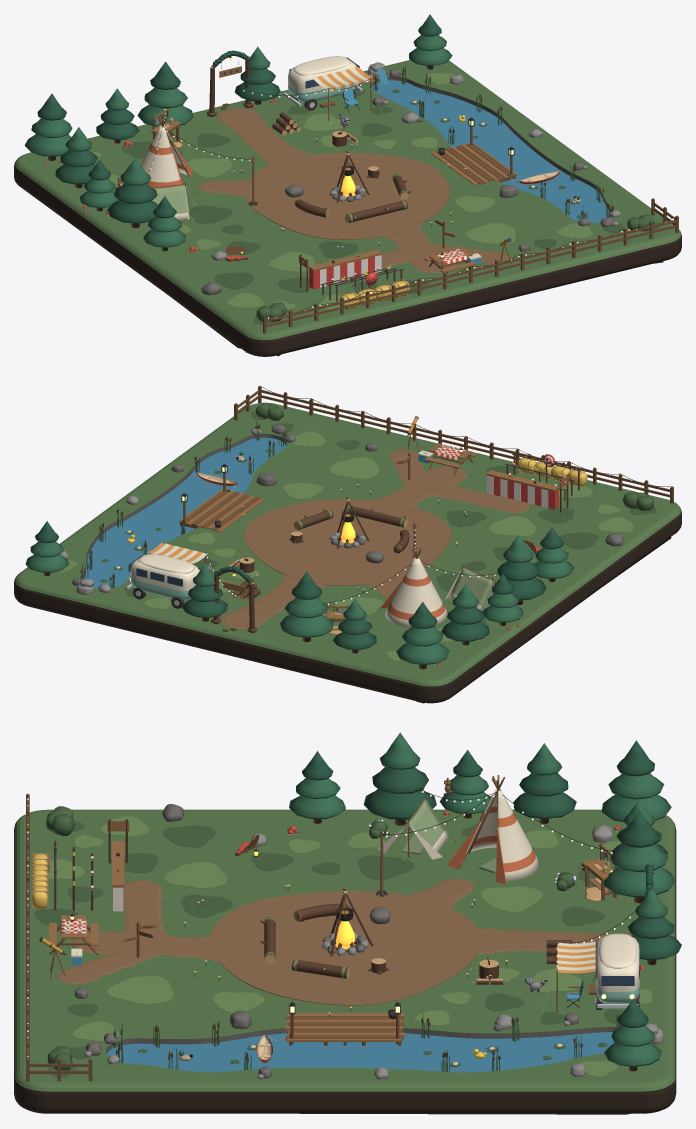
The model's file is campfire.glb.
The picture shows the model from 3 angles, top to bottom: view 1: azimuth 30°, elevation 25°; view 2: azimuth 150°, elevation 25°; view 3: azimuth 270°, elevation 25°; orthographic projection. The views are drawn at different scales.
Parts seen in each view (by area): view 1: Campfire_Ground, Campfire_Paths, Campfire_Trees, Campfire_Grass, Campfire_Water, Campfire_Glamping, Camp_Living, Campfire_Fence, Campfire_Deco, Prop_Dock, Seat_Tent, Campfire_Rocks (+2 smaller); view 2: Campfire_Ground, Campfire_Paths, Campfire_Trees, Campfire_Grass, Campfire_Water, Camp_Living, Campfire_Glamping, Campfire_Fence, Campfire_Deco, Seat_Tent, Prop_Dock, Seat_Firepit (+2 smaller); view 3: Campfire_Ground, Campfire_Paths, Campfire_Trees, Campfire_Grass, Campfire_Water, Campfire_Glamping, Campfire_Deco, Seat_Tent, Camp_Living, Prop_Dock, Campfire_Rocks, Seat_Firepit (+4 smaller).
Part boxes in pixels (left/top/right/bottom): Campfire_Ground: left=14, top=60, right=681, bottom=356; Campfire_Paths: left=199, top=108, right=510, bottom=272; Campfire_Trees: left=24, top=14, right=452, bottom=251; Campfire_Grass: left=92, top=73, right=660, bottom=324; Campfire_Water: left=371, top=68, right=610, bottom=222; Campfire_Glamping: left=226, top=56, right=519, bottom=279; Camp_Living: left=206, top=50, right=409, bottom=310; Campfire_Fence: left=263, top=198, right=678, bottom=333; Campfire_Deco: left=43, top=64, right=654, bottom=321; Prop_Dock: left=430, top=117, right=517, bottom=185; Seat_Tent: left=140, top=115, right=192, bottom=188; Campfire_Rocks: left=201, top=62, right=620, bottom=295; Campfire_Ground: left=14, top=402, right=681, bottom=703; Campfire_Paths: left=221, top=449, right=530, bottom=629; Campfire_Trees: left=25, top=521, right=574, bottom=669; Campfire_Grass: left=58, top=411, right=657, bottom=660; Campfire_Water: left=83, top=437, right=286, bottom=588; Camp_Living: left=210, top=454, right=587, bottom=632; Campfire_Glamping: left=126, top=416, right=541, bottom=608; Campfire_Fence: left=234, top=385, right=673, bottom=503; Campfire_Deco: left=80, top=403, right=653, bottom=667; Seat_Tent: left=381, top=547, right=447, bottom=627; Prop_Dock: left=179, top=463, right=264, bottom=532; Seat_Firepit: left=289, top=505, right=409, bottom=563; Campfire_Ground: left=14, top=809, right=676, bottom=1113; Campfire_Paths: left=58, top=879, right=632, bottom=1005; Campfire_Trees: left=289, top=732, right=681, bottom=1071; Campfire_Grass: left=34, top=816, right=652, bottom=1077; Campfire_Water: left=107, top=1032, right=614, bottom=1072; Campfire_Glamping: left=39, top=831, right=639, bottom=1041; Campfire_Deco: left=46, top=806, right=644, bottom=1071; Seat_Tent: left=447, top=775, right=539, bottom=884; Camp_Living: left=32, top=819, right=653, bottom=984; Prop_Dock: left=285, top=1001, right=404, bottom=1045; Campfire_Rocks: left=74, top=804, right=664, bottom=1079; Seat_Firepit: left=260, top=903, right=390, bottom=978.
Size of the model in its own units: 21.68 by 6.38 by 21.79.
